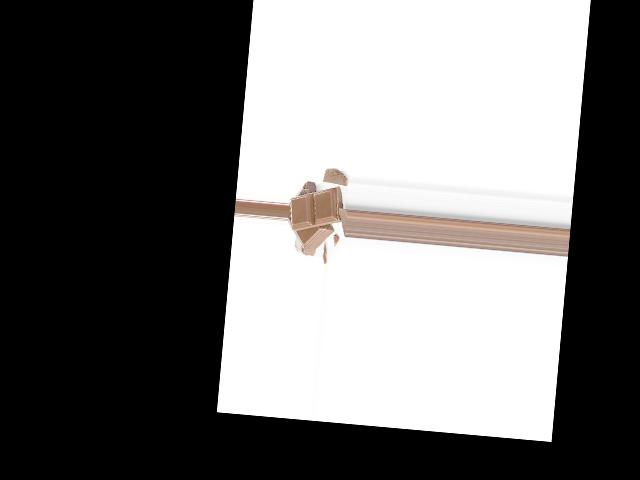chocolate: (289, 184, 343, 235)
